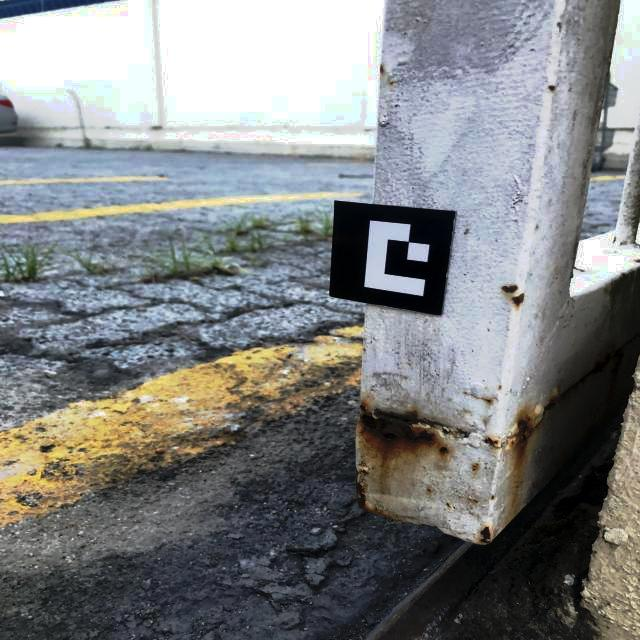Corrosion: (508, 341, 628, 453), (373, 544, 480, 640), (358, 400, 439, 450), (356, 467, 393, 520), (478, 525, 491, 544), (511, 293, 525, 306), (483, 437, 499, 447), (502, 285, 519, 293), (476, 397, 492, 403), (439, 444, 449, 453), (549, 84, 557, 92), (472, 463, 479, 471), (469, 498, 478, 503), (380, 63, 384, 74), (426, 488, 432, 493), (490, 495, 494, 500), (446, 502, 450, 506), (497, 386, 502, 389)
